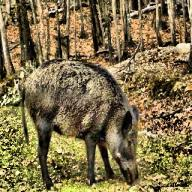boar: (20, 57, 140, 191)
